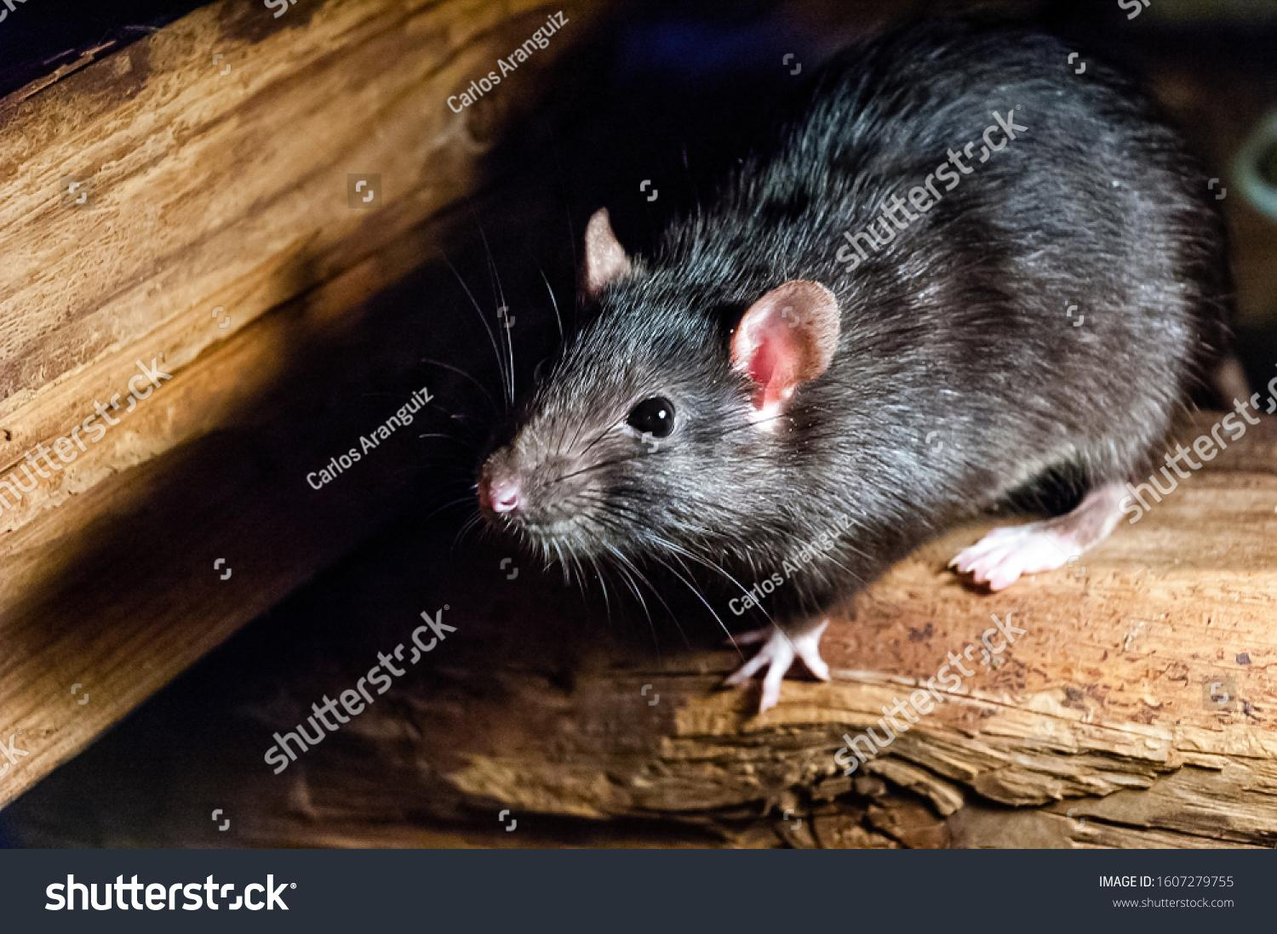rat: (479, 34, 1254, 716)
